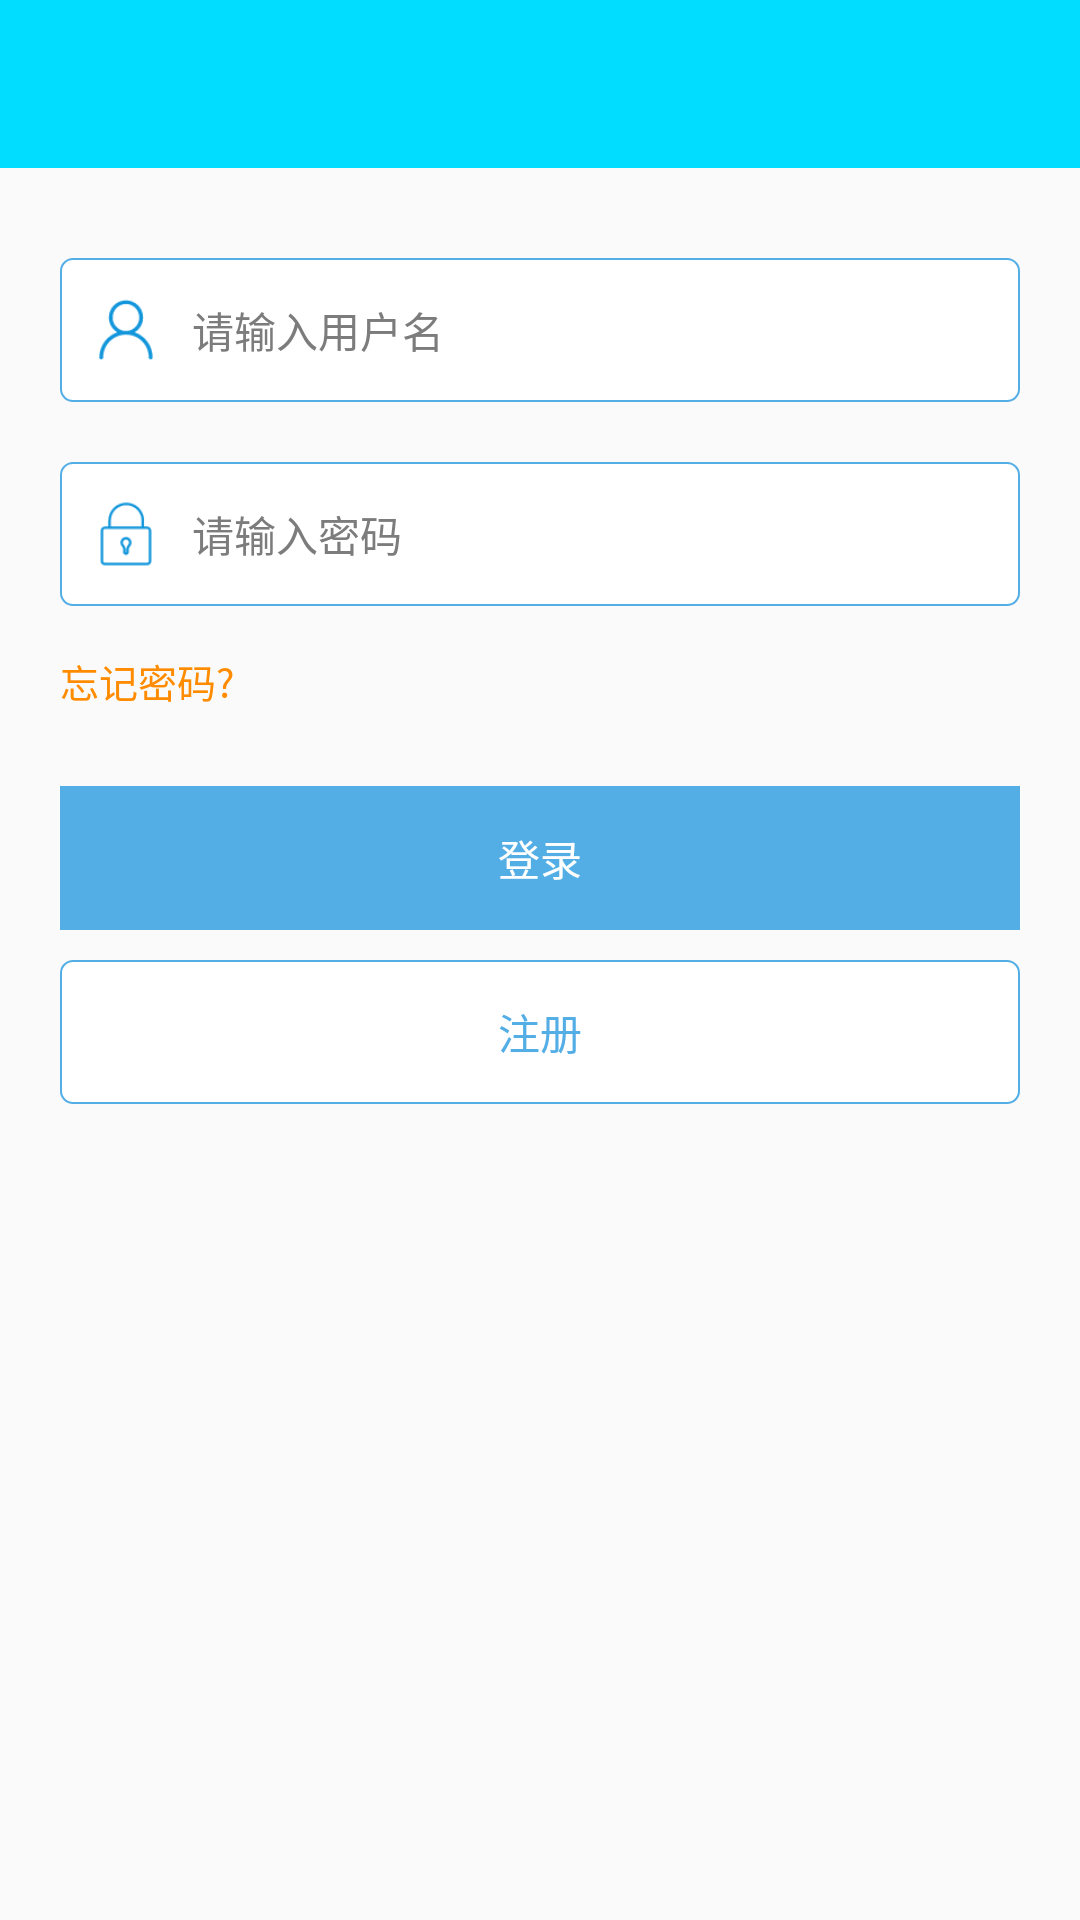

Where to tap for icons on this 1080px×1920px app screen, as [x,y]:
login pw: [126,534]
login user: [126,330]
